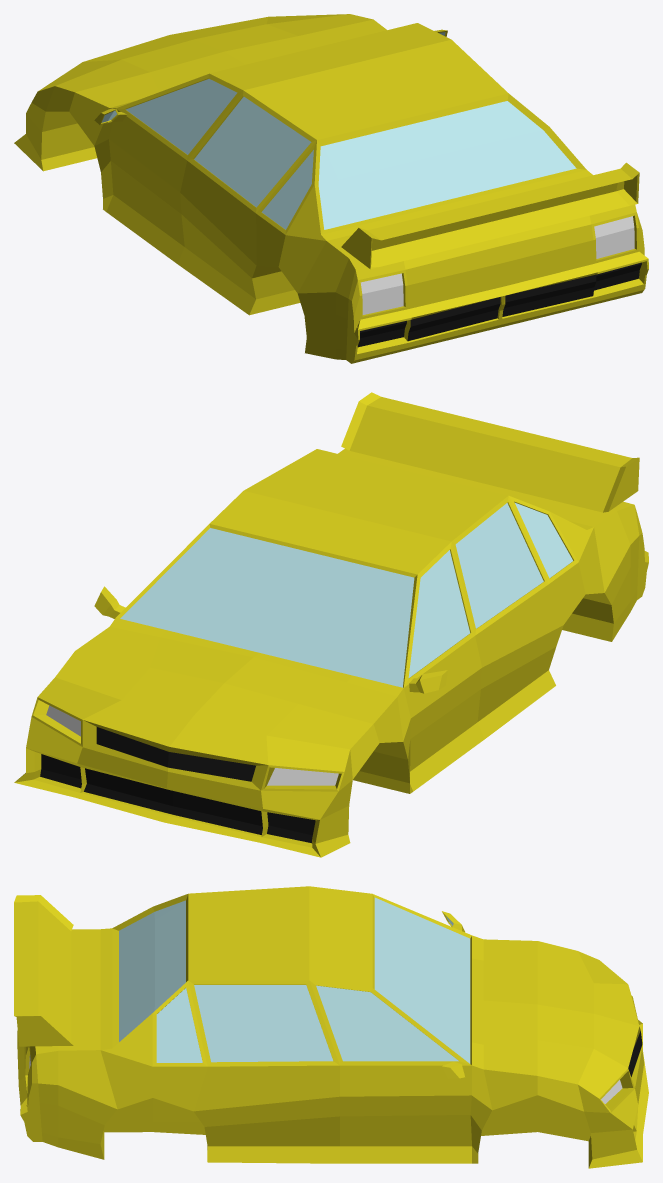
The model's file is firstcar.fbx.
The picture shows the model from 3 angles, top to bottom: view 1: azimuth 30°, elevation 25°; view 2: azimuth 150°, elevation 25°; view 3: azimuth 270°, elevation 25°; orthographic projection. The views are drawn at different scales.
Parts seen in each view (by area): view 1: Car; view 2: Car; view 3: Car.
Part boxes in pixels (x1,y1,x2,y2): Car: [14, 14, 648, 363]; Car: [14, 392, 648, 857]; Car: [14, 886, 648, 1168].
Bounding box in the file's own units: 264 × 131 × 454.
